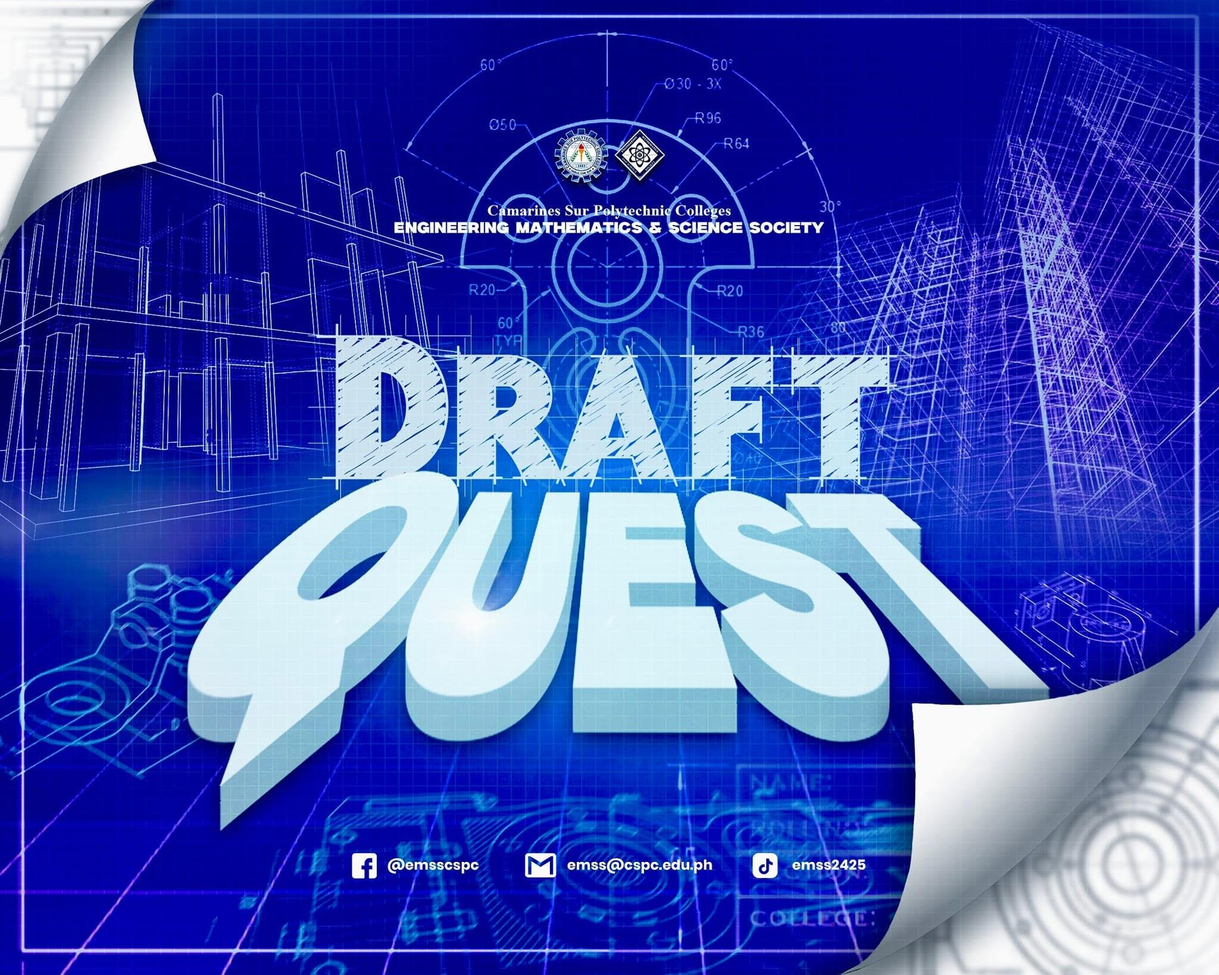embellishment: (523, 849, 558, 880), (351, 850, 380, 881), (751, 851, 782, 880)
logo: (552, 126, 613, 185), (613, 125, 669, 184)
text: (186, 323, 1054, 833), (391, 202, 828, 238), (565, 857, 719, 875), (385, 856, 481, 876), (791, 858, 869, 873)
